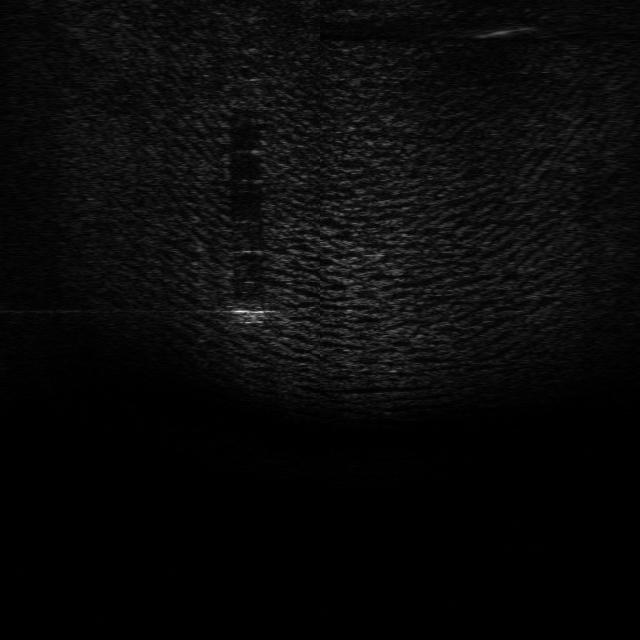cube: (222, 298, 269, 326)
